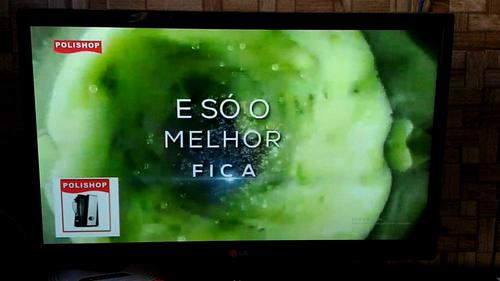Polishop #1: (52, 177, 120, 237)
